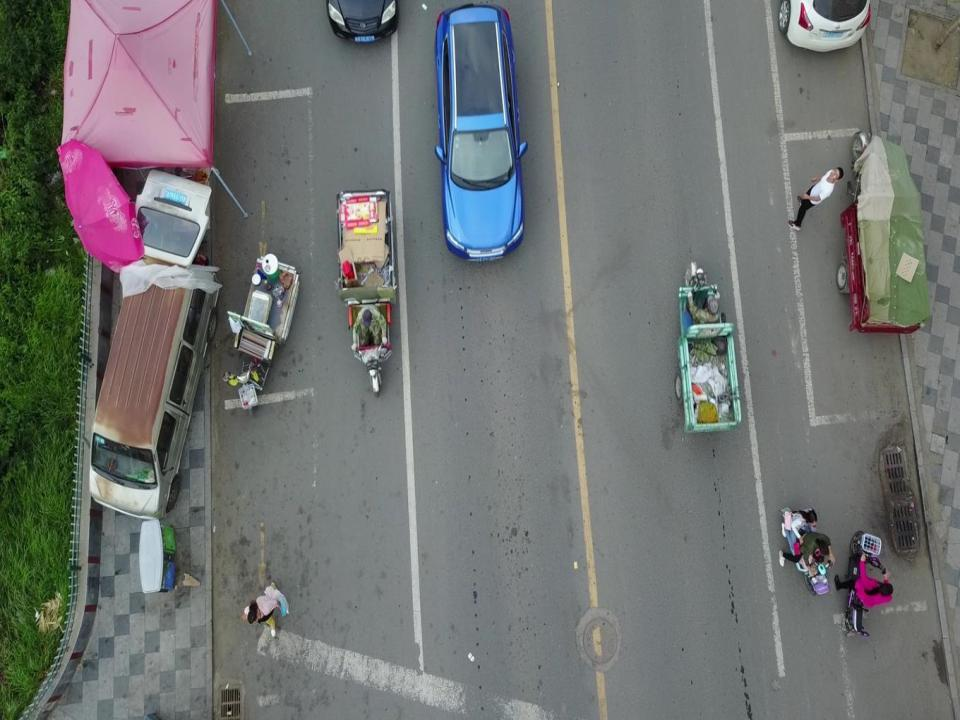car: (430, 6, 533, 266)
van: (88, 176, 224, 523)
